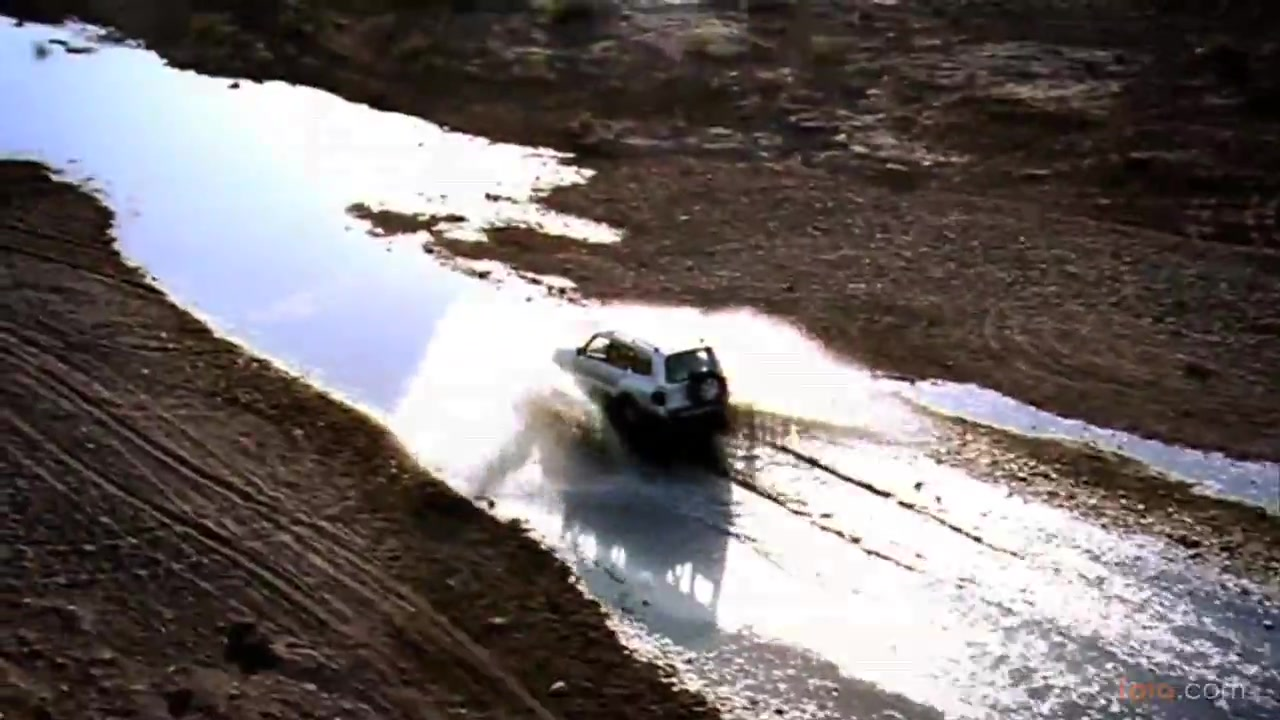car: (553, 327, 732, 435)
